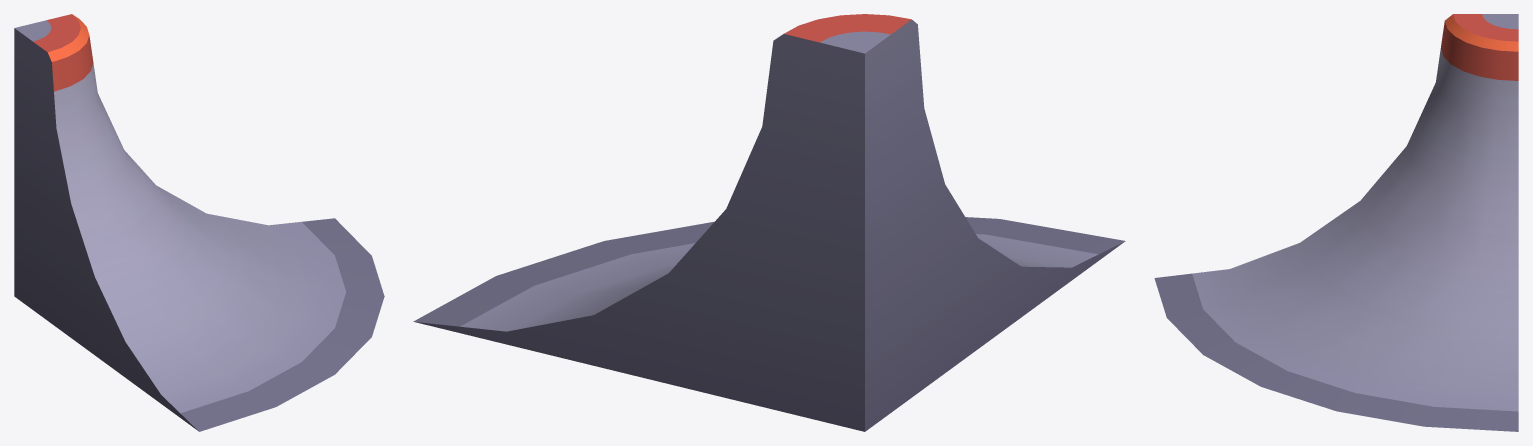
File: bowl-corner-outer.glb
3 views of the same model, side by side, from view 1: azimuth 30°, elevation 25°; view 2: azimuth 150°, elevation 25°; view 3: azimuth 270°, elevation 25° (orthographic). The views are drawn at different scales.
Visible parts, largest first — view 1: bowl-corner-outer; view 2: bowl-corner-outer; view 3: bowl-corner-outer.
Part boxes in pixels (bbox=[...]): bowl-corner-outer: bbox=[14, 14, 384, 431]; bowl-corner-outer: bbox=[413, 14, 1125, 431]; bowl-corner-outer: bbox=[1154, 14, 1518, 431].
Size of the model in its own units: 1 by 0.8 by 1.
1 material, 1 textured.
